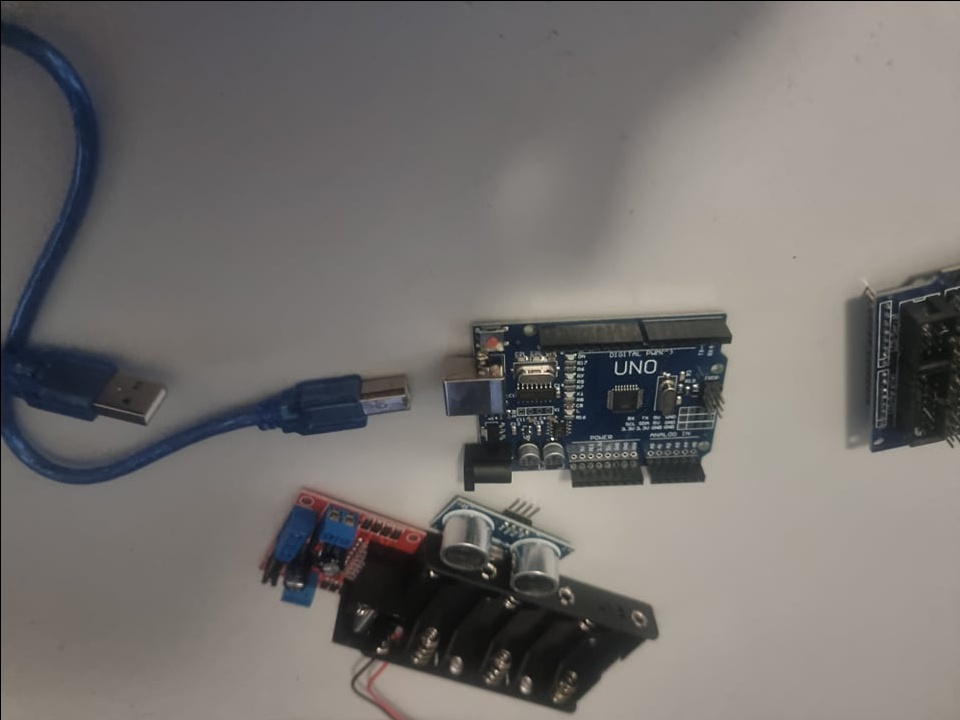5V EXPANSION: (867, 272, 959, 454)
BATTERY BOX: (416, 569, 662, 719)
MOTOR: (254, 483, 425, 658)
SENSOR: (433, 498, 579, 596)
UNO R3: (435, 307, 739, 496)
